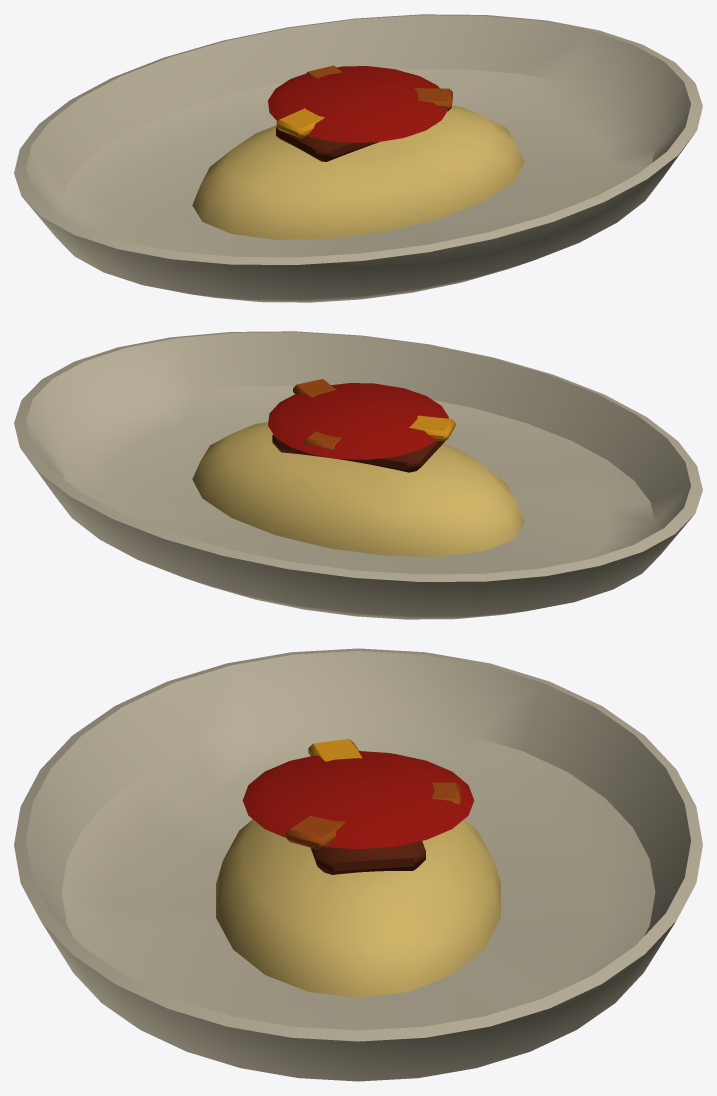
Rendered from food-baked-pork-rice-s1.glb.
3 renders of one model, top to bottom at view 1: azimuth 30°, elevation 25°; view 2: azimuth 150°, elevation 25°; view 3: azimuth 270°, elevation 25°, orthographic. The views are drawn at different scales.
Parts seen in each view (by area): view 1: dish__ceramic, rice__food, sauce__sauce, cheese__food, pork__food; view 2: dish__ceramic, rice__food, sauce__sauce, cheese__food, pork__food; view 3: dish__ceramic, rice__food, sauce__sauce, pork__food, cheese__food.
Boxes of the visible parts, x1,y1,x2,y2 form: dish__ceramic: (14, 14, 702, 302); rice__food: (192, 105, 524, 239); sauce__sauce: (268, 66, 447, 142); cheese__food: (276, 65, 452, 138); pork__food: (276, 123, 436, 161); dish__ceramic: (14, 331, 702, 619); rice__food: (192, 422, 524, 556); sauce__sauce: (268, 383, 448, 459); cheese__food: (293, 379, 455, 450); pork__food: (272, 434, 444, 472); dish__ceramic: (14, 648, 702, 1081); rice__food: (216, 819, 500, 997); sauce__sauce: (242, 751, 474, 849); pork__food: (311, 841, 425, 874); cheese__food: (286, 739, 460, 850).
Size of the model in its own units: 0.3915 by 0.0677 by 0.29.
